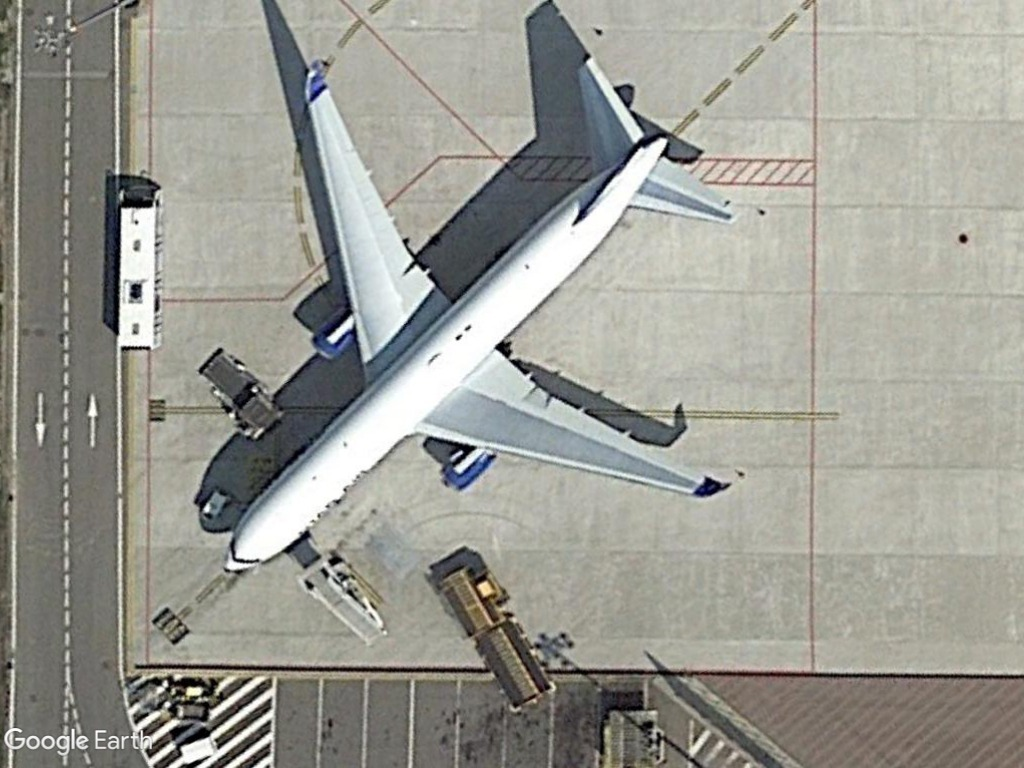airliner: (207, 46, 771, 588)
bus: (114, 183, 171, 357)
stairtruck: (294, 553, 391, 651)
